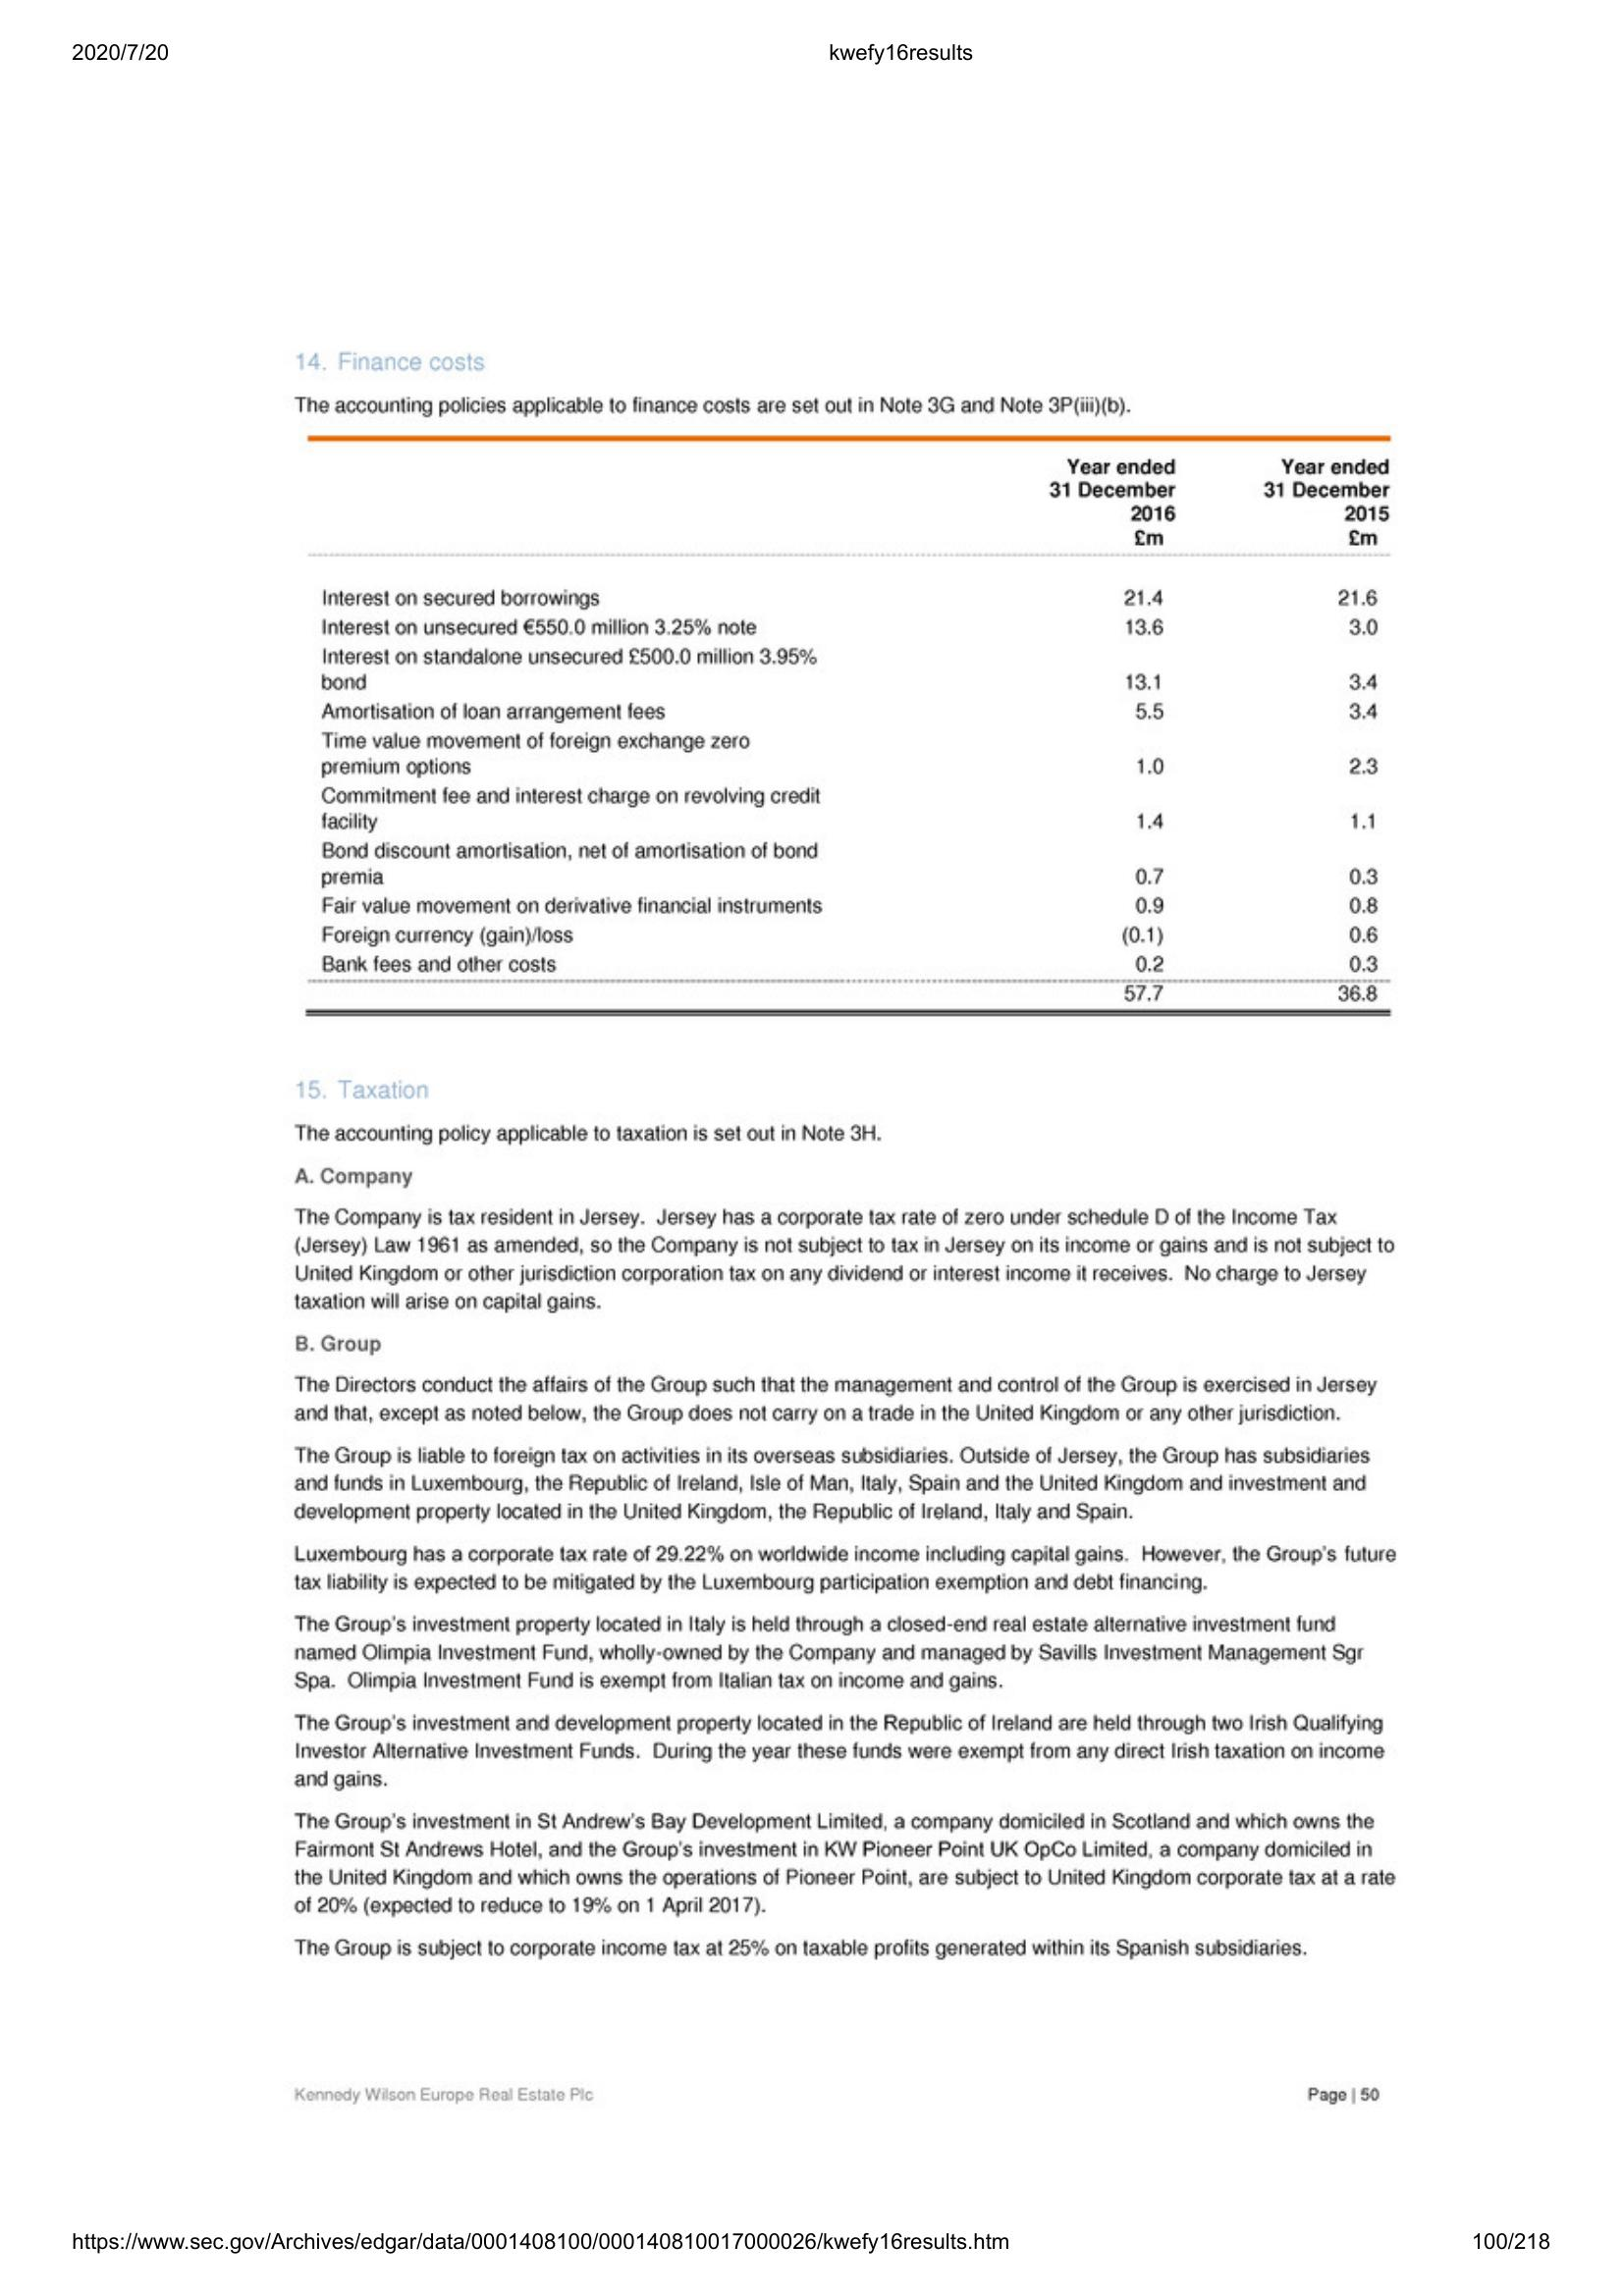table: (306, 432, 1396, 1023)
